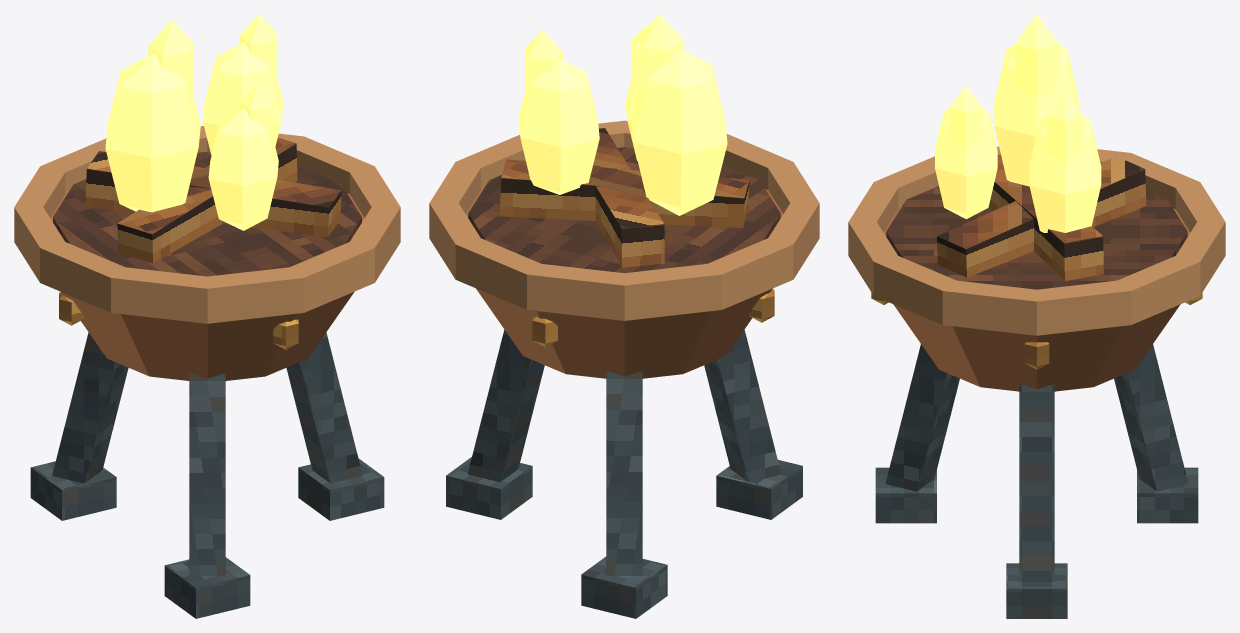
The picture shows the model from 3 angles, left to right: view 1: azimuth 30°, elevation 25°; view 2: azimuth 150°, elevation 25°; view 3: azimuth 270°, elevation 25°; orthographic projection. The views are drawn at different scales.
Visible parts, largest first — view 1: body_iron, body_copper_light, body_state_flame, body_copper, body_wood_dark, body_wood, body_brass; view 2: body_iron, body_copper_light, body_state_flame, body_copper, body_wood, body_wood_dark, body_brass; view 3: body_iron, body_copper_light, body_state_flame, body_copper, body_wood, body_wood_dark, body_brass.
Part boxes in pixels (bbox=[...]): body_iron: bbox=[30, 332, 384, 618]; body_copper_light: bbox=[14, 126, 400, 323]; body_state_flame: bbox=[105, 14, 283, 230]; body_copper: bbox=[50, 193, 364, 380]; body_wood_dark: bbox=[53, 151, 361, 276]; body_wood: bbox=[85, 137, 341, 263]; body_brass: bbox=[59, 292, 298, 349]; body_iron: bbox=[446, 329, 802, 618]; body_copper_light: bbox=[429, 120, 819, 320]; body_state_flame: bbox=[518, 14, 727, 215]; body_copper: bbox=[466, 189, 782, 378]; body_wood: bbox=[499, 128, 749, 267]; body_wood_dark: bbox=[468, 147, 780, 273]; body_brass: bbox=[532, 289, 774, 347]; body_iron: bbox=[875, 344, 1198, 618]; body_copper_light: bbox=[848, 146, 1225, 335]; body_state_flame: bbox=[935, 14, 1101, 232]; body_copper: bbox=[883, 208, 1190, 391]; body_wood: bbox=[937, 154, 1146, 281]; body_wood_dark: bbox=[886, 186, 1187, 289]; body_brass: bbox=[871, 292, 1202, 369].
Bounding box in the file's own units: 0.8 × 1.2 × 0.8.
7 materials, 4 textured.
